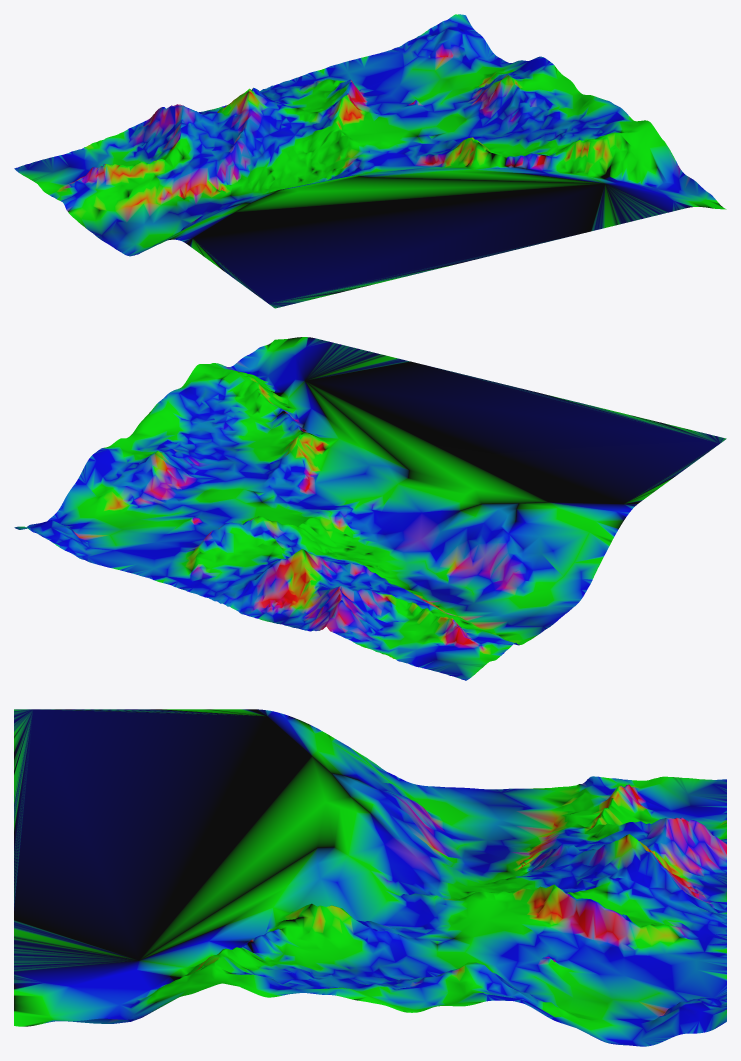
The picture shows the model from 3 angles, top to bottom: view 1: azimuth 30°, elevation 25°; view 2: azimuth 150°, elevation 25°; view 3: azimuth 270°, elevation 25°; orthographic projection. The views are drawn at different scales.
Parts seen in each view (by area): view 1: E_1_7; view 2: E_1_7; view 3: E_1_7.
Boxes of the visible parts, <box> form: E_1_7: <box>14,14,726,308</box>; E_1_7: <box>14,337,726,680</box>; E_1_7: <box>14,709,726,1046</box>.
Size of the model in its own units: 819 by 136 by 819.
